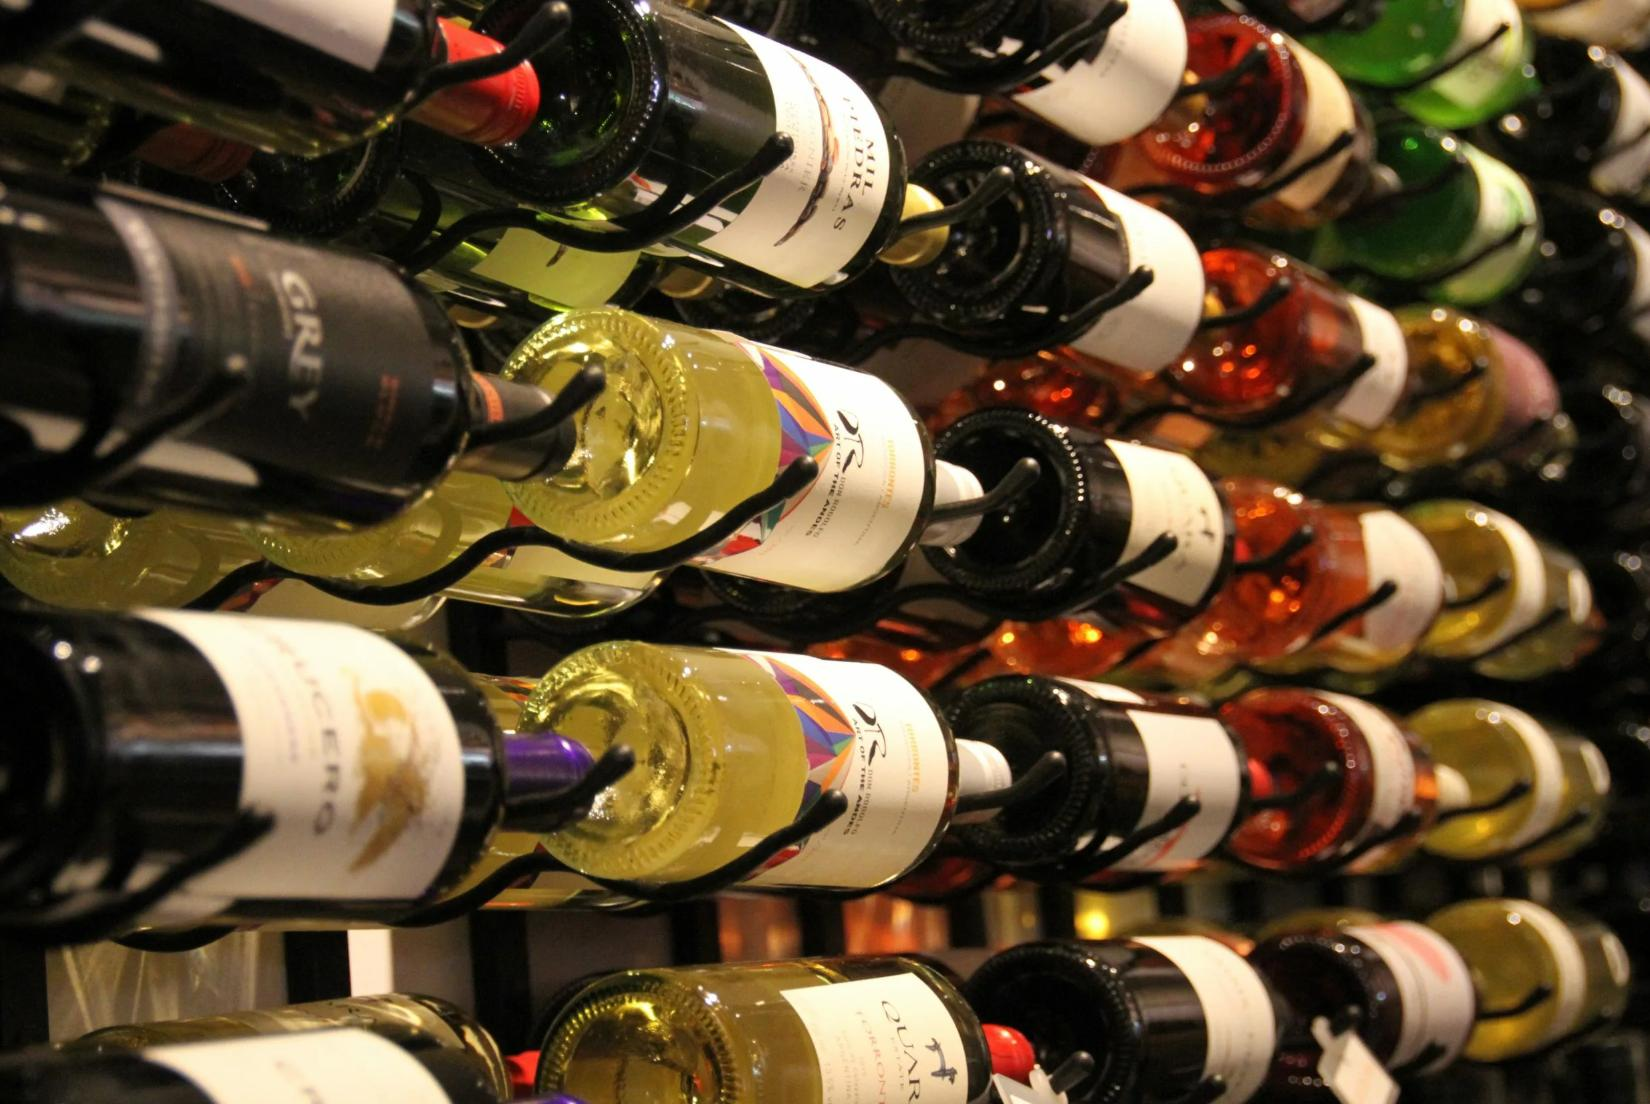wine bottle: (0, 164, 578, 537), (0, 603, 595, 923), (456, 0, 950, 306), (492, 302, 988, 595), (522, 642, 1018, 892), (0, 0, 540, 159), (886, 138, 1208, 384), (532, 954, 1038, 1104), (919, 408, 1233, 648), (950, 673, 1278, 886), (0, 992, 545, 1104), (1132, 17, 1401, 238), (972, 935, 1300, 1104), (1166, 245, 1413, 460), (870, 0, 1190, 152), (1227, 685, 1470, 877), (1203, 473, 1448, 658), (1250, 914, 1485, 1093), (1336, 122, 1544, 313), (1411, 499, 1595, 686), (1368, 303, 1559, 476), (1411, 699, 1612, 862), (1433, 897, 1628, 1062)
wine label: (92, 195, 436, 497), (139, 611, 466, 901), (684, 334, 930, 594), (722, 651, 949, 891), (697, 26, 891, 290), (1012, 0, 1190, 153), (1072, 172, 1204, 379), (780, 971, 969, 1104), (1132, 936, 1278, 1104), (142, 1028, 451, 1103), (1338, 917, 1477, 1074), (1110, 711, 1243, 872), (1103, 436, 1221, 607), (1264, 42, 1357, 213), (1316, 689, 1418, 833), (1443, 150, 1540, 301), (209, 0, 398, 73), (1360, 509, 1447, 658), (1502, 901, 1590, 1040), (1475, 509, 1545, 664), (1491, 706, 1565, 851), (1333, 301, 1407, 428), (1486, 331, 1548, 450)
